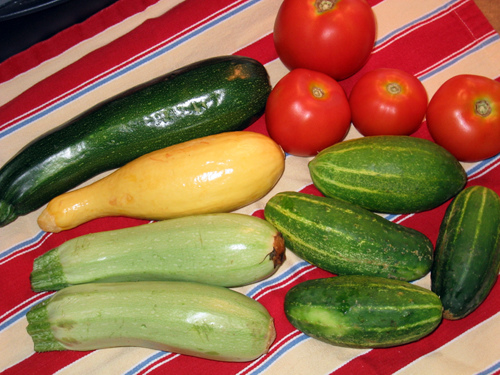cucumber: (268, 190, 436, 282), (306, 132, 469, 215), (282, 274, 445, 350), (428, 183, 499, 319)
